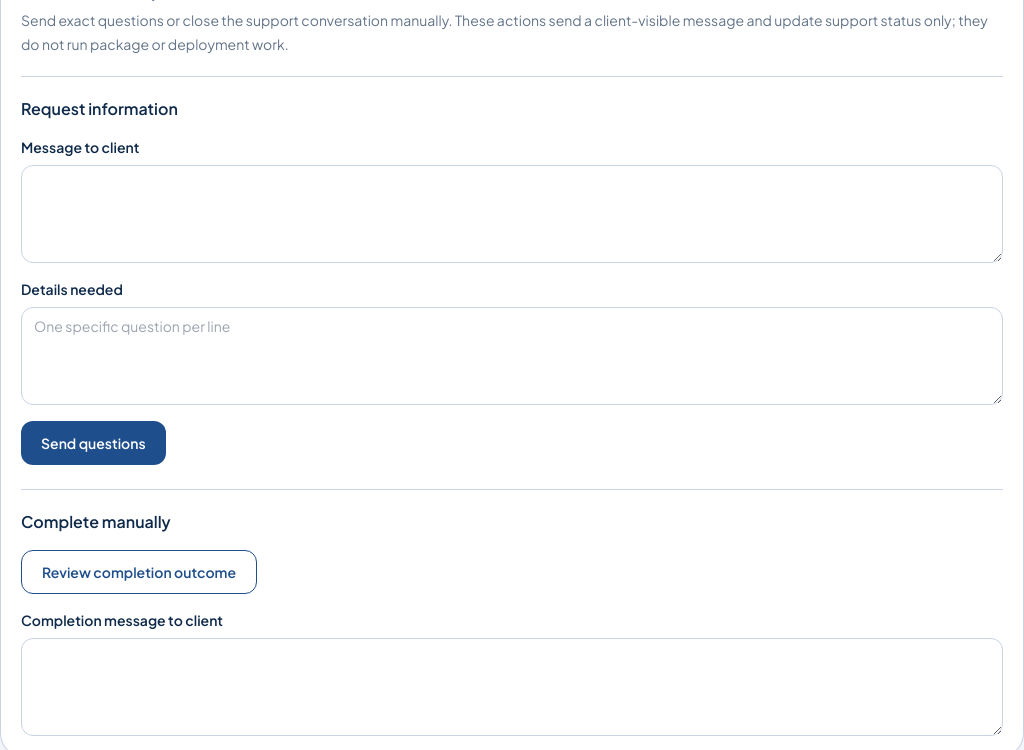
Scenario: SupportManualLoopActions completion review facts › does not invent declined facts for an older preview response
The image size is (1024, 750).
(page scrolled)
Type "No changes were needed." into the text box labelled "Completion message to client" at (512, 687), box [21,638,1003,736]
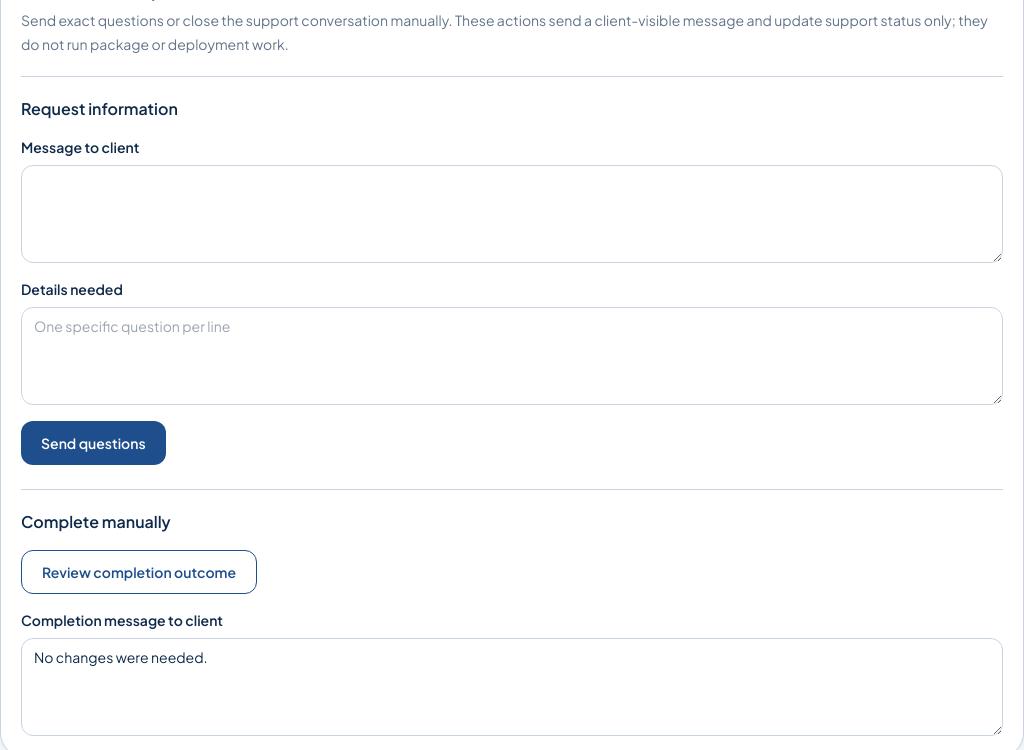
Click the button "Review completion outcome" at (139, 572), box [21,550,257,594]
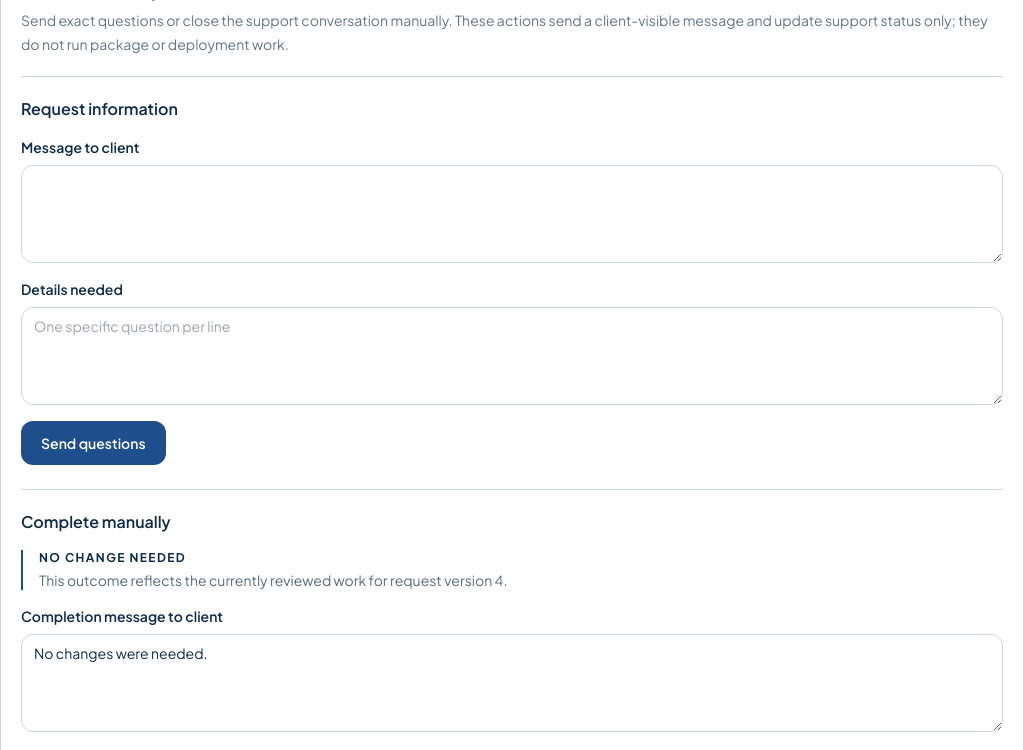
Now the text "No change needed" is shown, box [39,550,186,565]
